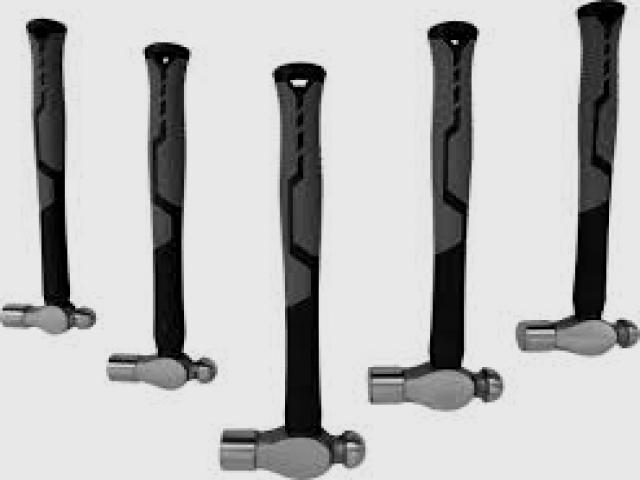Hammer: (220, 65, 365, 480), (372, 23, 502, 411), (519, 2, 640, 356), (106, 45, 216, 389), (0, 21, 95, 334)
